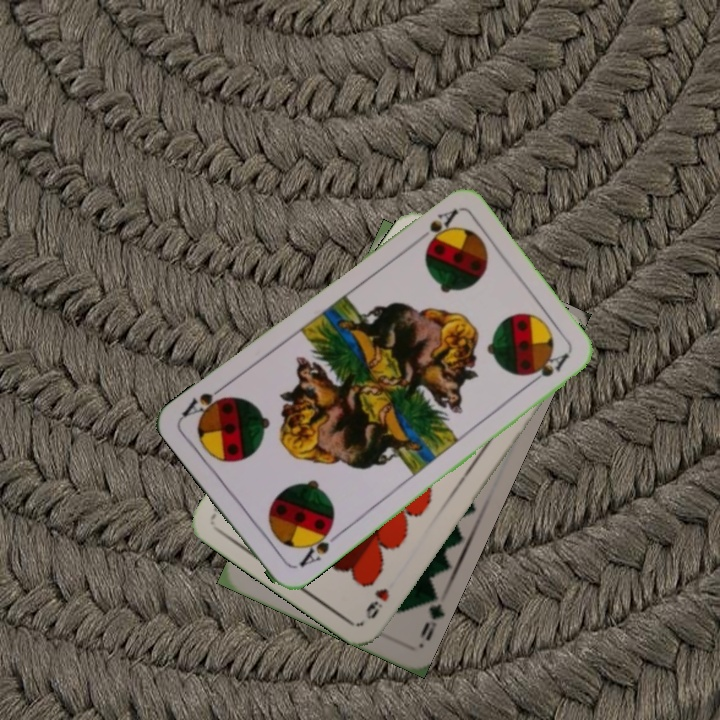G9: (416, 589, 446, 644)
H9: (361, 584, 392, 623)
SA: (410, 204, 461, 249), (295, 522, 342, 570)
